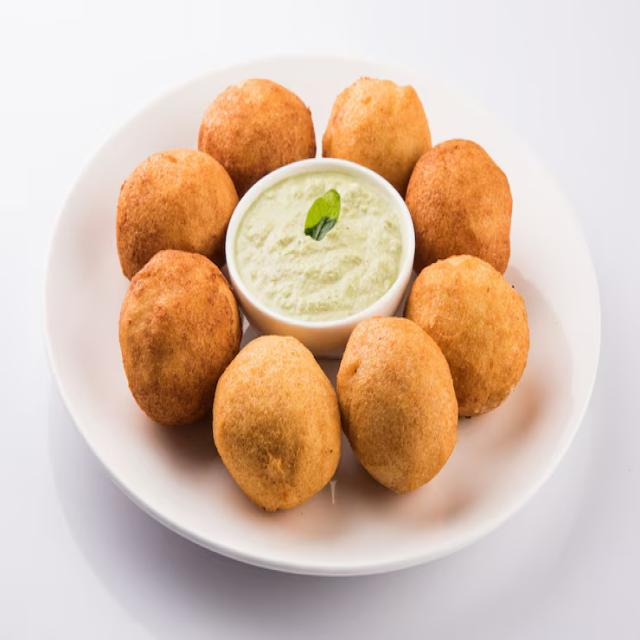BONDA: (87, 67, 574, 543)
WHITE CHUTNEY: (223, 167, 401, 316)
